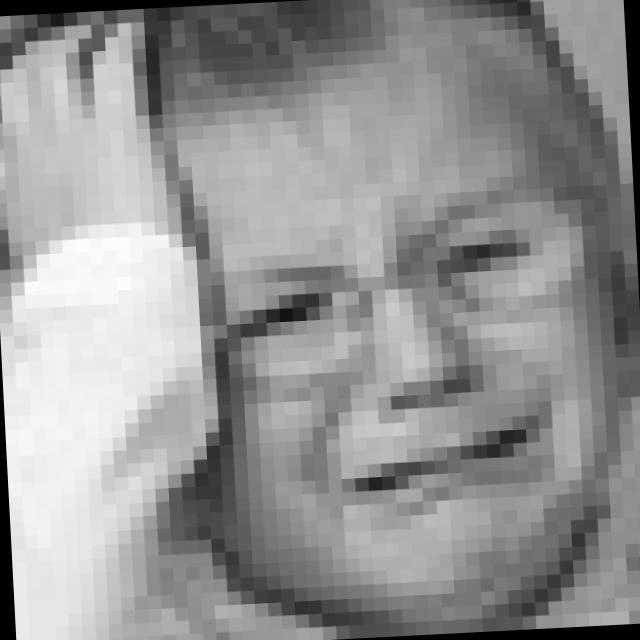sad: (203, 180, 600, 538)
